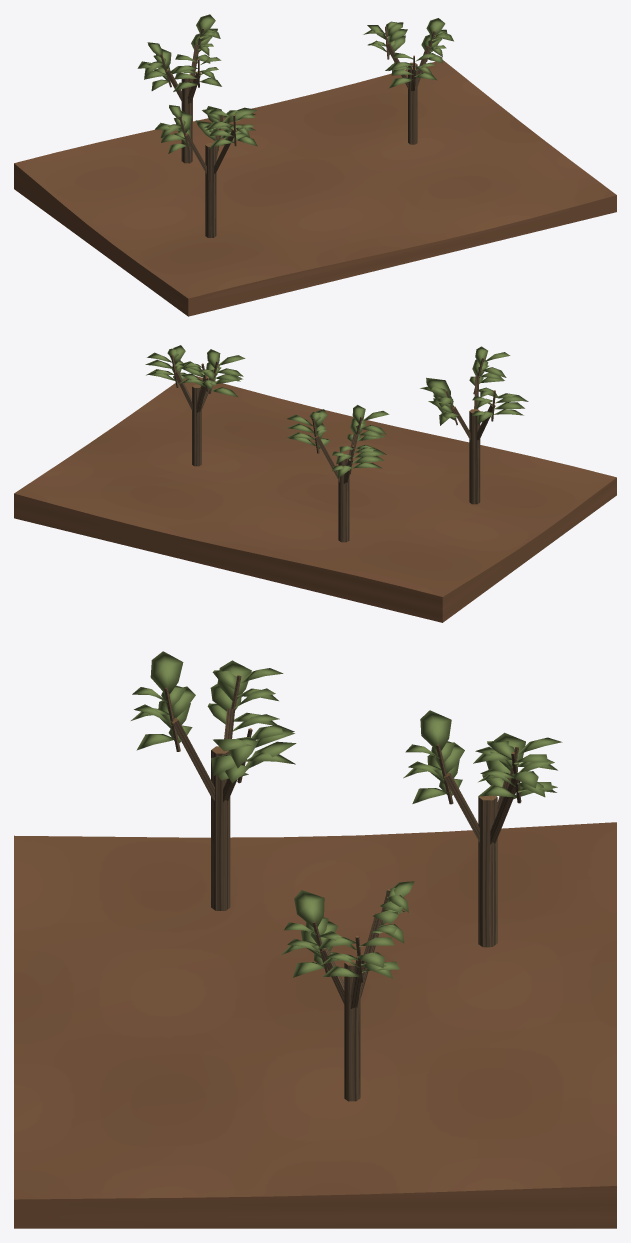
File: roseau.glb
3 views of the same model, one above another, from view 1: azimuth 30°, elevation 25°; view 2: azimuth 150°, elevation 25°; view 3: azimuth 270°, elevation 25° (orthographic). The views are drawn at different scales.
Visible parts, largest first — view 1: roseau; view 2: roseau; view 3: roseau.
Boxes of the visible parts, box(x1,y1,x2,y2) form: roseau: box(14, 14, 616, 316); roseau: box(14, 345, 616, 622); roseau: box(14, 651, 616, 1228).
Size of the model in its own units: 7.1 by 2.46 by 5.
Materials: 1 (1 with a texture image).
